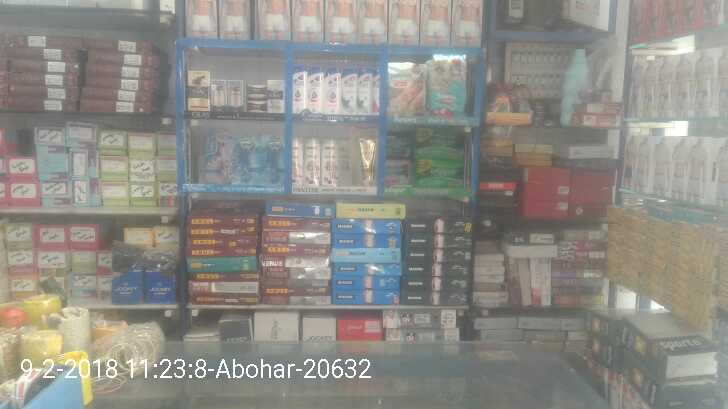venus: (227, 141, 260, 184), (260, 136, 286, 184), (203, 130, 225, 181)
